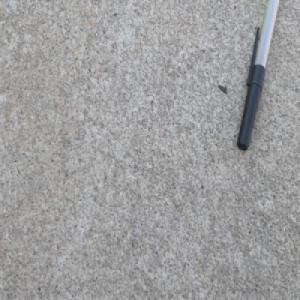Pen: (236, 0, 280, 151)
